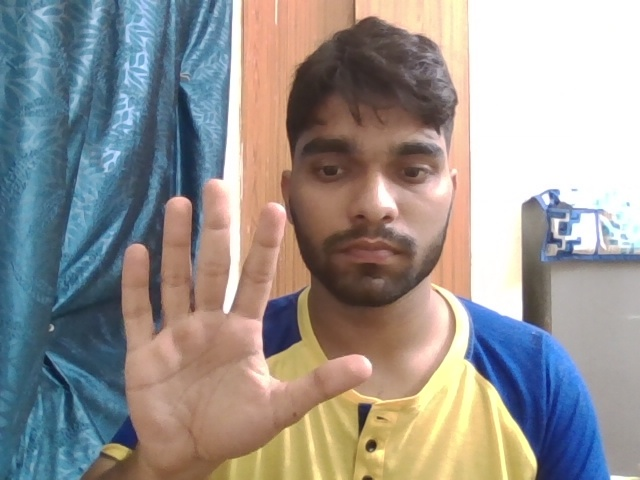Hello: (118, 176, 377, 464)
